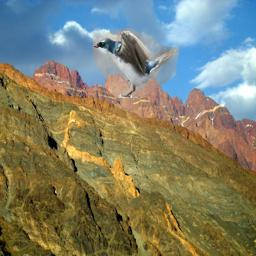Swallow: (93, 28, 179, 98)
